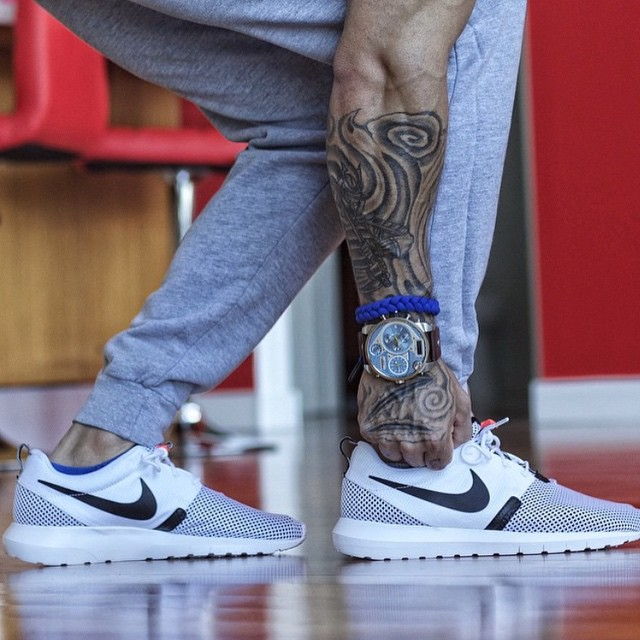sneaker: (1, 411, 325, 578), (327, 408, 640, 576)
